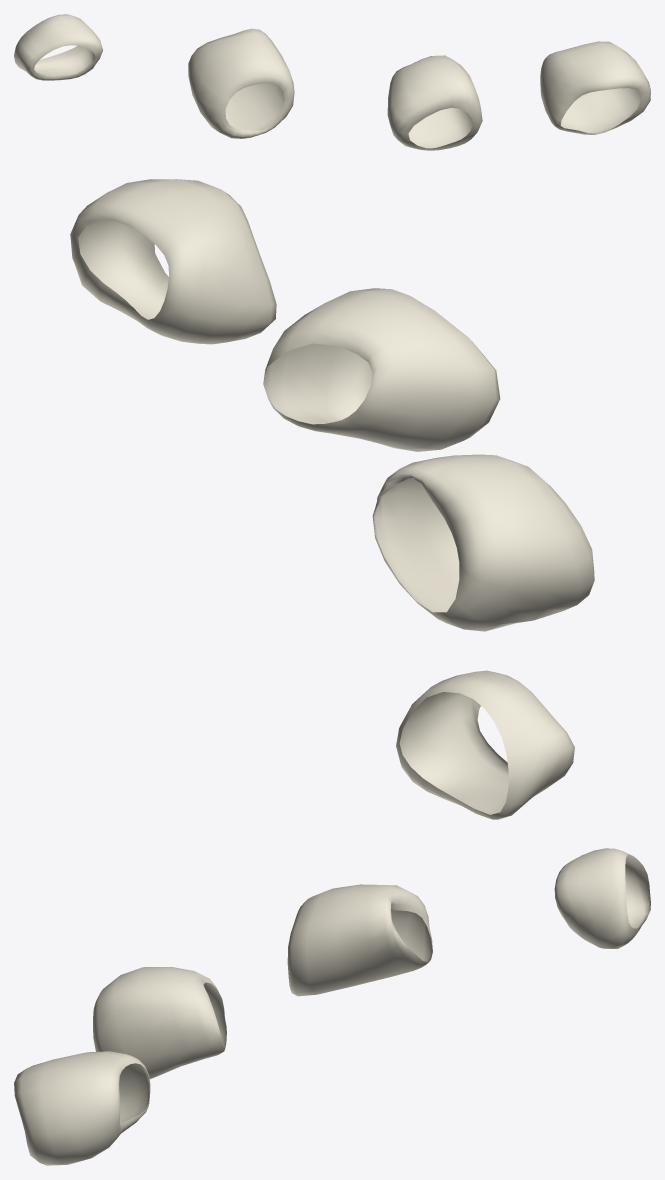
The picture shows the model from 3 angles, top to bottom: view 1: azimuth 30°, elevation 25°; view 2: azimuth 150°, elevation 25°; view 3: azimuth 270°, elevation 25°; orthographic projection. The views are drawn at different scales.
Parts seen in each view (by area): view 1: ZA_934c8082ee6819e2; view 2: ZA_934c8082ee6819e2; view 3: ZA_934c8082ee6819e2.
Boxes of the visible parts, box(x1,y1,x2,y2) form: ZA_934c8082ee6819e2: box(14, 14, 650, 150); ZA_934c8082ee6819e2: box(70, 179, 594, 819); ZA_934c8082ee6819e2: box(14, 848, 650, 1165).
Bounding box in the file's own units: 0.0491 × 0.00866 × 0.0451.
